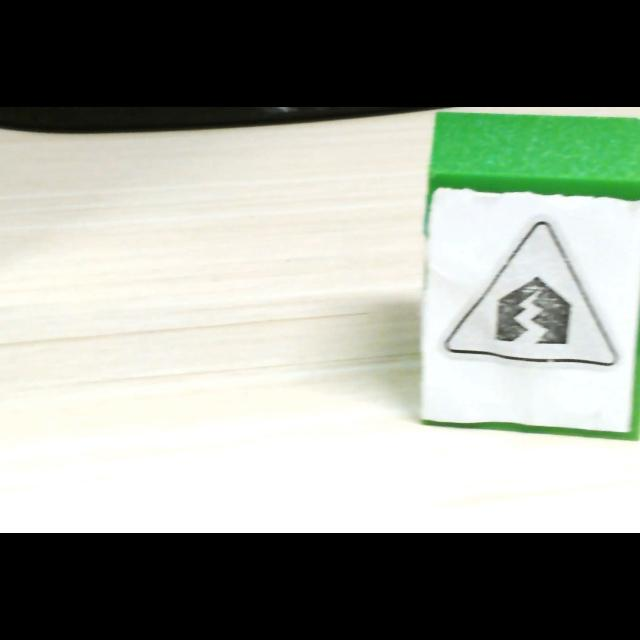Earthquake: (441, 221, 619, 367), (442, 223, 618, 369)
